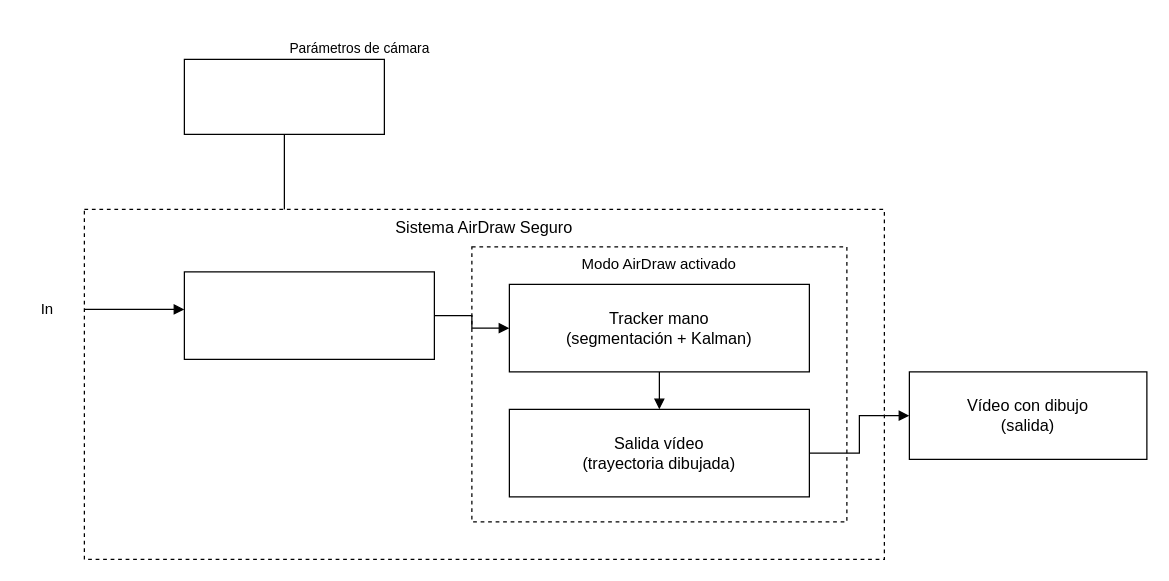
The diagram is 1169 pixels wide and 581 high, and some of its shapes have lost their labels. The centre of each missing label's shape, as x and y in pixels:
"Calibración" goes at pixel 283 96.
"Módulo de Seguridad (detección de patrones)" goes at pixel 308 315.
